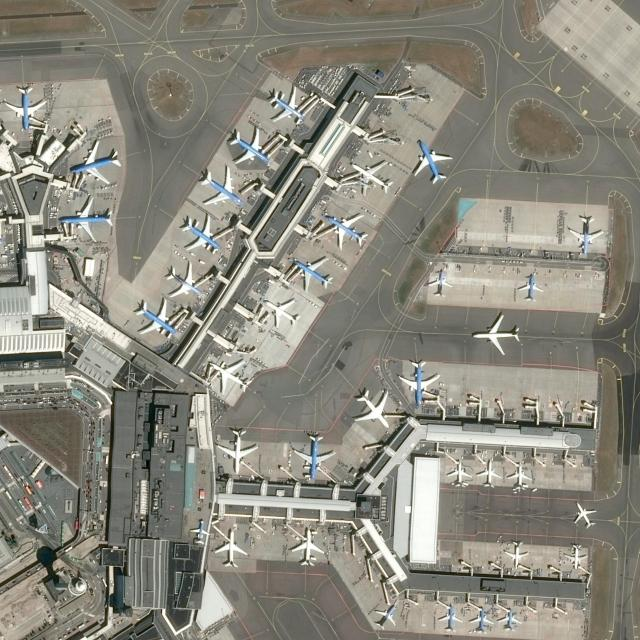aircraft: (58, 198, 115, 241), (69, 139, 121, 184), (214, 428, 261, 474), (396, 359, 442, 405), (471, 313, 521, 355), (291, 432, 336, 478), (3, 85, 46, 130), (197, 167, 244, 205), (352, 389, 392, 430), (414, 141, 452, 184), (181, 213, 221, 253), (228, 126, 270, 164), (349, 160, 392, 197), (324, 214, 368, 250), (135, 299, 177, 335), (208, 360, 251, 394), (568, 215, 604, 255), (292, 258, 334, 292), (289, 527, 324, 567), (164, 261, 202, 297), (214, 529, 248, 567), (270, 85, 304, 122), (261, 298, 302, 328), (426, 267, 454, 298), (516, 274, 544, 301), (372, 602, 399, 630), (508, 463, 534, 491), (572, 501, 598, 529), (504, 540, 530, 566), (468, 608, 494, 634), (446, 459, 471, 486), (478, 459, 501, 488), (438, 606, 464, 631), (563, 544, 588, 568), (498, 609, 522, 632), (190, 520, 210, 544)
